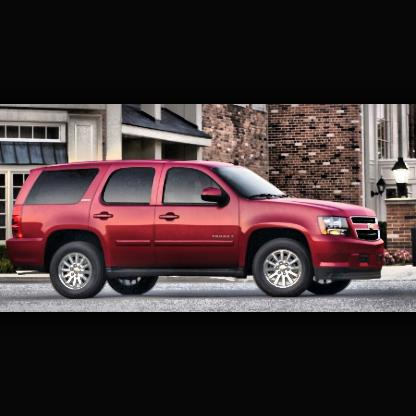Chevrolet Tahoe Hybrid SUV 2012: (8, 162, 387, 302)
